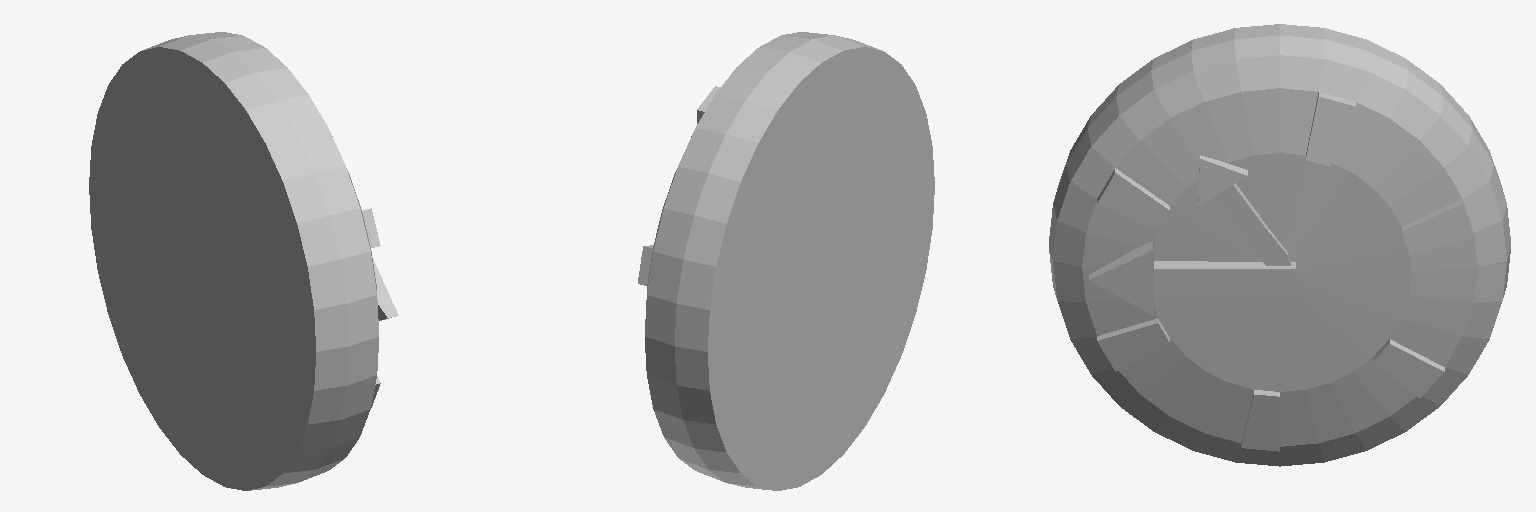
Rendered from Clock.obj.
3 views of the same model, side by side, from view 1: azimuth 30°, elevation 25°; view 2: azimuth 150°, elevation 25°; view 3: azimuth 270°, elevation 25° (orthographic).
Parts seen in each view (by area): view 1: Circle, Cube.001; view 2: Circle; view 3: Circle, Cube, Cube.001, Cube.003, Cube.002.
Boxes of the visible parts, x1=… form: Circle: x1=89, y1=32, x2=380, y2=490; Cube.001: x1=372, y1=257, x2=398, y2=320; Circle: x1=638, y1=32, x2=934, y2=490; Circle: x1=1049, y1=24, x2=1510, y2=466; Cube: x1=1154, y1=261, x2=1295, y2=295; Cube.001: x1=1089, y1=241, x2=1153, y2=315; Cube.003: x1=1214, y1=183, x2=1290, y2=265; Cube.002: x1=1198, y1=155, x2=1247, y2=205.
Size of the model in its own units: 0.4279 by 1.61 by 1.61.